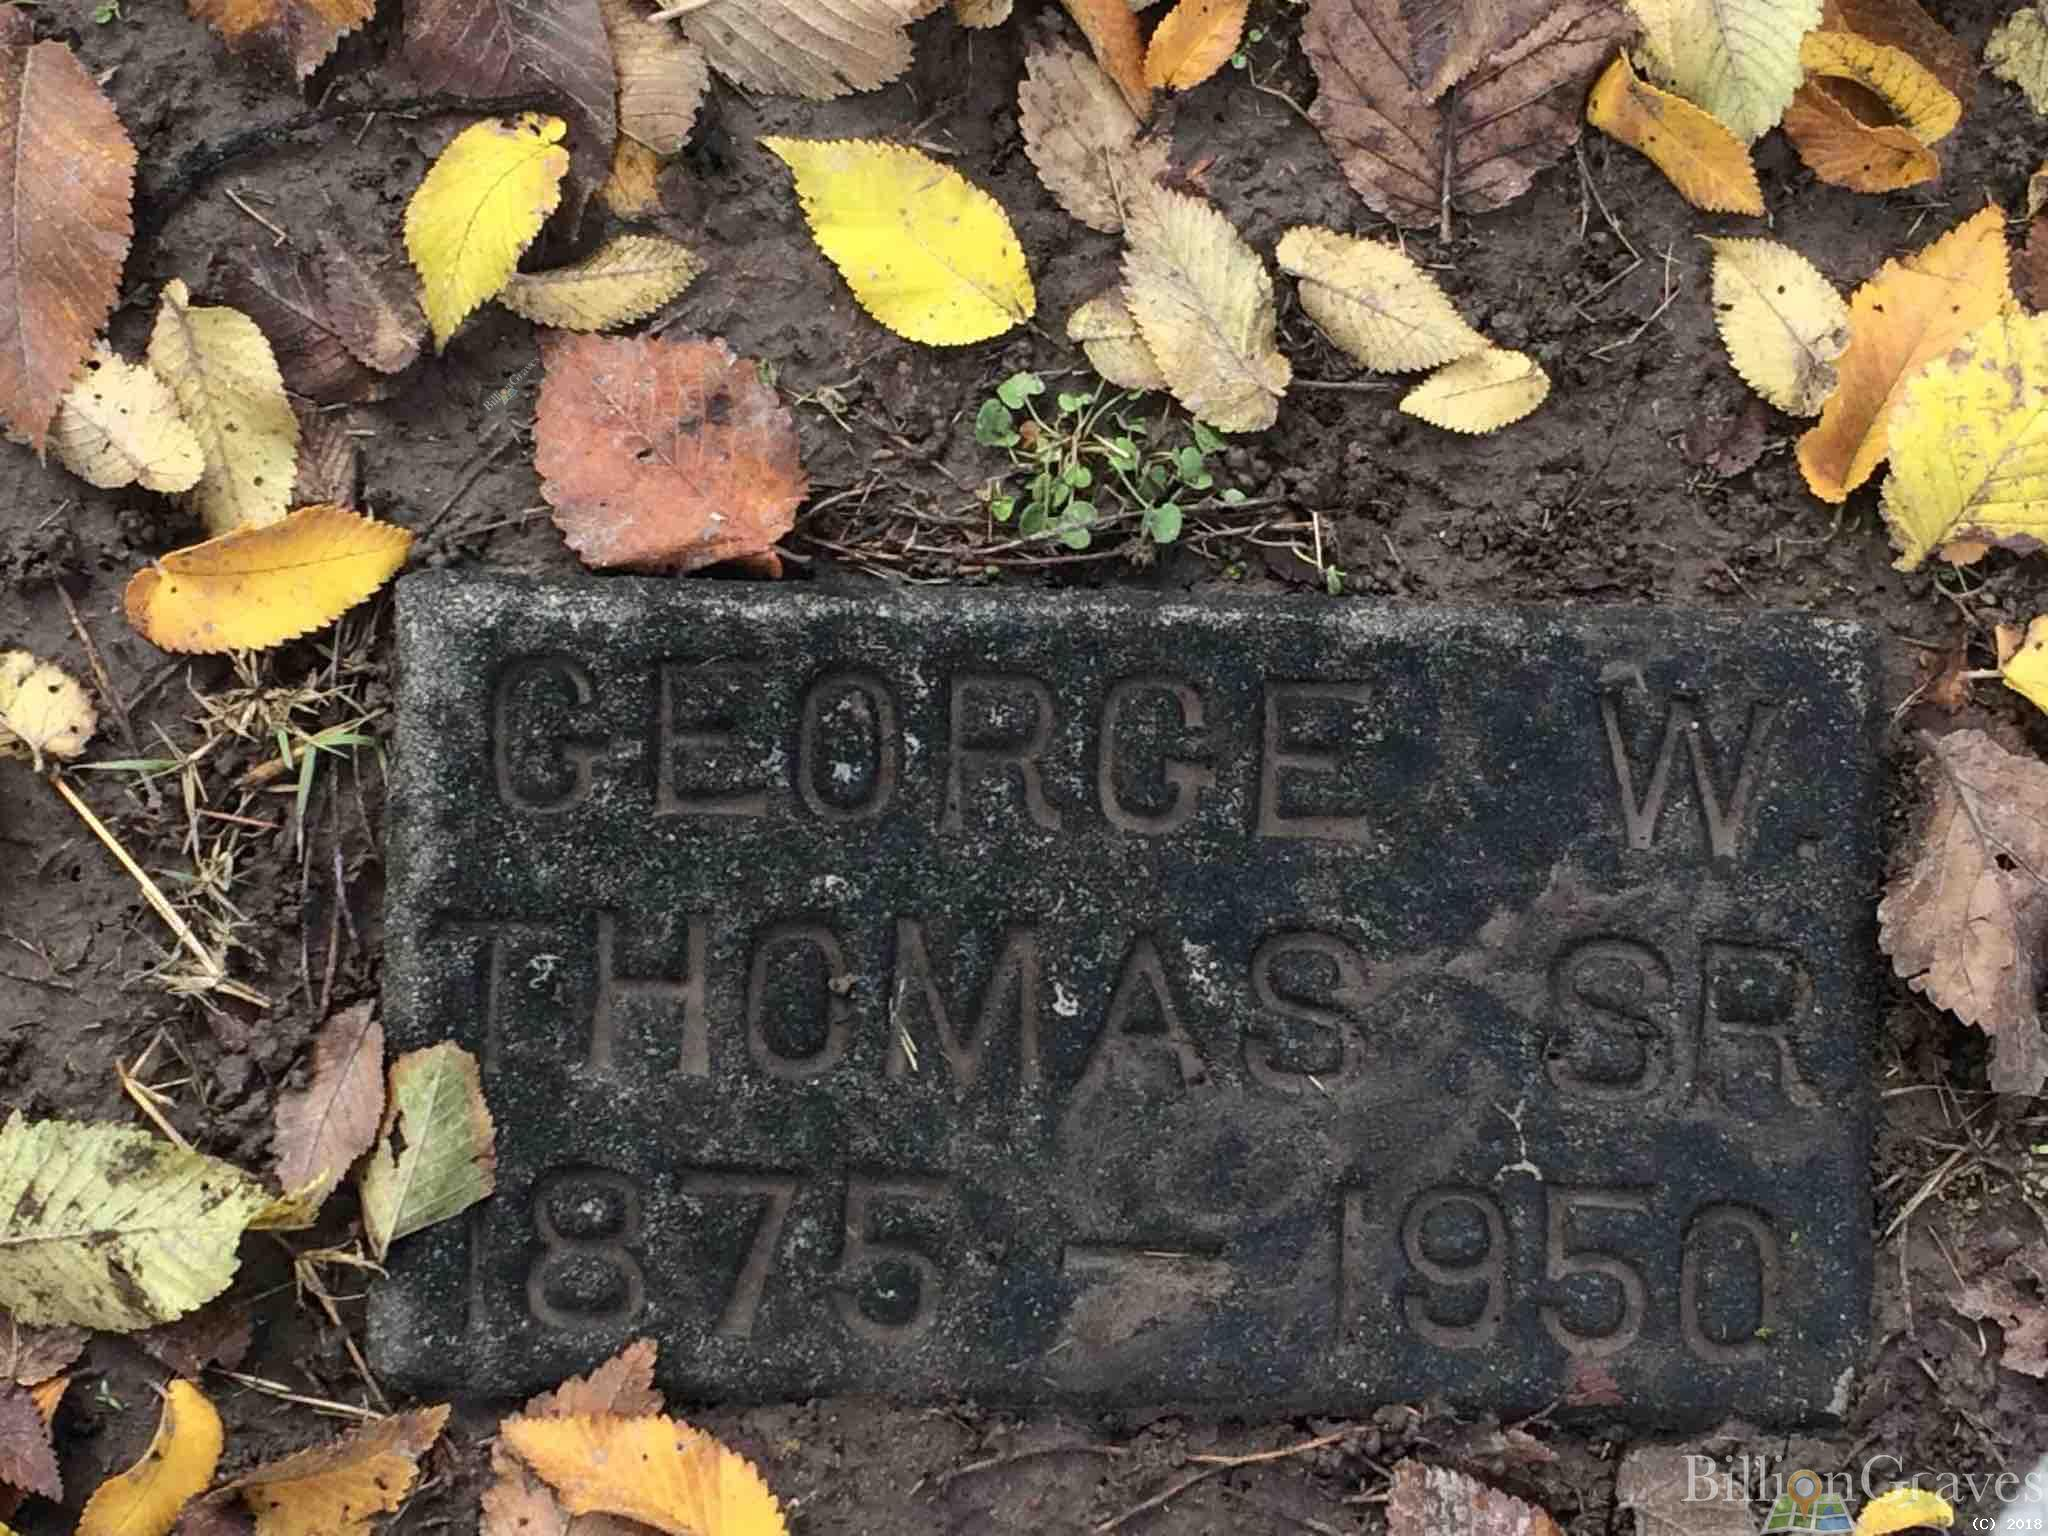flat: (373, 561, 1874, 1417)
